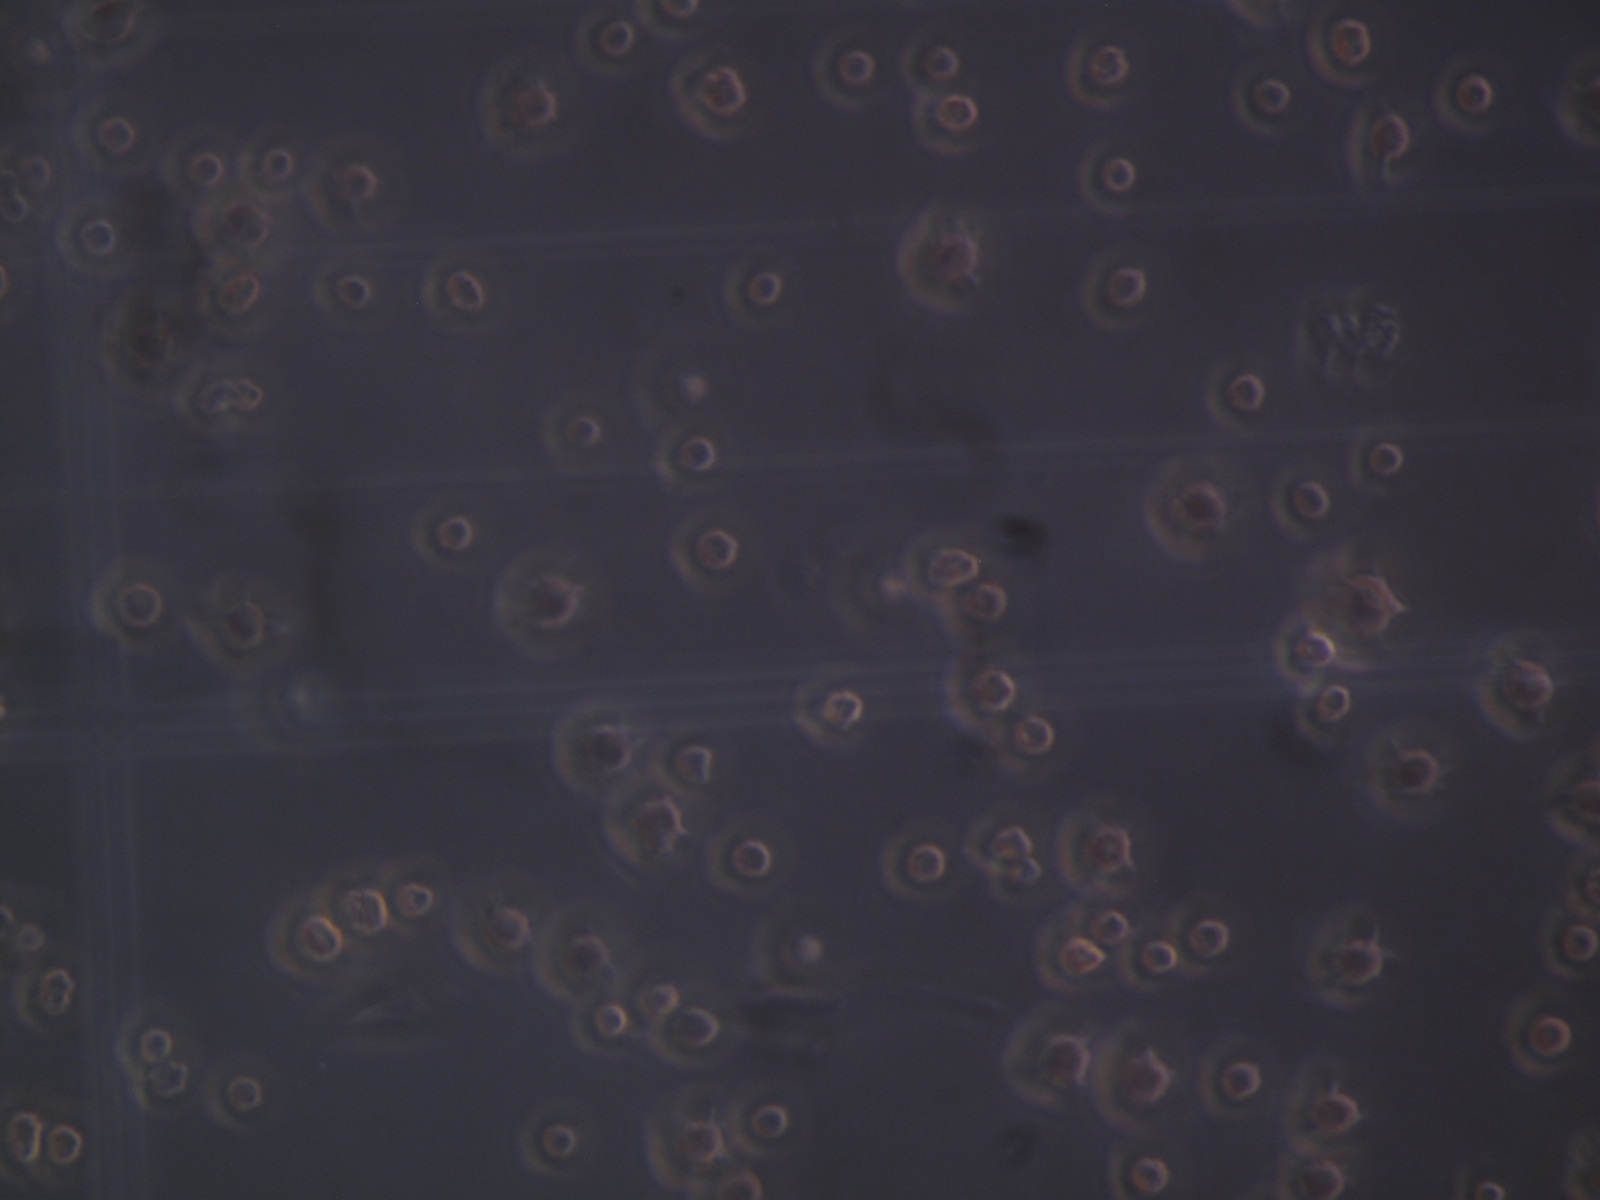hemo: (494, 545, 585, 661), (1094, 1013, 1172, 1136), (1002, 1005, 1090, 1108), (1146, 458, 1227, 563), (551, 698, 634, 799), (893, 212, 976, 311), (697, 816, 787, 904), (1056, 800, 1139, 896), (1475, 647, 1555, 746), (641, 1100, 724, 1195), (188, 572, 265, 671), (477, 67, 557, 160), (748, 914, 834, 1000), (1362, 729, 1437, 824), (669, 50, 750, 140), (89, 555, 163, 652), (1285, 1066, 1361, 1158), (942, 649, 1015, 742), (449, 890, 528, 976), (632, 347, 711, 434), (537, 909, 609, 1001), (311, 135, 375, 237), (1036, 913, 1117, 992), (316, 858, 391, 945), (602, 792, 682, 872), (72, 100, 152, 178), (267, 897, 343, 979), (901, 529, 978, 608), (1502, 995, 1576, 1075), (64, 1, 157, 66), (423, 258, 499, 335), (794, 673, 867, 753), (1342, 95, 1406, 184), (1167, 890, 1231, 978), (55, 198, 127, 276), (1080, 253, 1146, 337), (963, 802, 1037, 874), (198, 268, 272, 339), (671, 516, 738, 594), (409, 495, 476, 574), (1332, 566, 1397, 644), (1201, 1039, 1262, 1119), (1317, 939, 1388, 1008), (881, 828, 947, 903), (1311, 11, 1374, 88), (1065, 37, 1131, 108), (238, 137, 310, 204), (229, 357, 289, 436), (515, 1098, 580, 1171), (569, 991, 636, 1060), (651, 725, 717, 795), (937, 584, 1012, 645), (1271, 470, 1332, 546), (649, 424, 717, 490), (717, 260, 781, 329), (14, 966, 77, 1036), (1432, 63, 1492, 137), (1541, 910, 1600, 984), (724, 1088, 790, 1155), (644, 1007, 721, 1064), (174, 363, 236, 434), (574, 13, 639, 79), (1105, 1136, 1172, 1200), (202, 1066, 265, 1134), (378, 861, 431, 942), (1204, 362, 1264, 432), (1230, 71, 1295, 134), (1078, 146, 1139, 214), (813, 43, 876, 107), (307, 267, 370, 332), (911, 95, 978, 154), (998, 713, 1056, 782), (1293, 682, 1353, 745), (1277, 618, 1335, 683), (1351, 429, 1403, 499), (900, 38, 963, 97), (118, 1005, 176, 1069), (42, 1098, 84, 1182), (540, 396, 601, 454), (1077, 903, 1135, 963), (1272, 1156, 1348, 1200), (1120, 930, 1175, 989), (215, 200, 273, 256), (165, 139, 224, 190), (135, 1063, 195, 1111), (632, 1, 699, 40), (1, 1099, 42, 1163), (991, 858, 1044, 904), (1451, 1161, 1512, 1200), (630, 977, 680, 1020), (699, 1171, 763, 1200), (16, 150, 54, 198), (1, 188, 31, 229)
